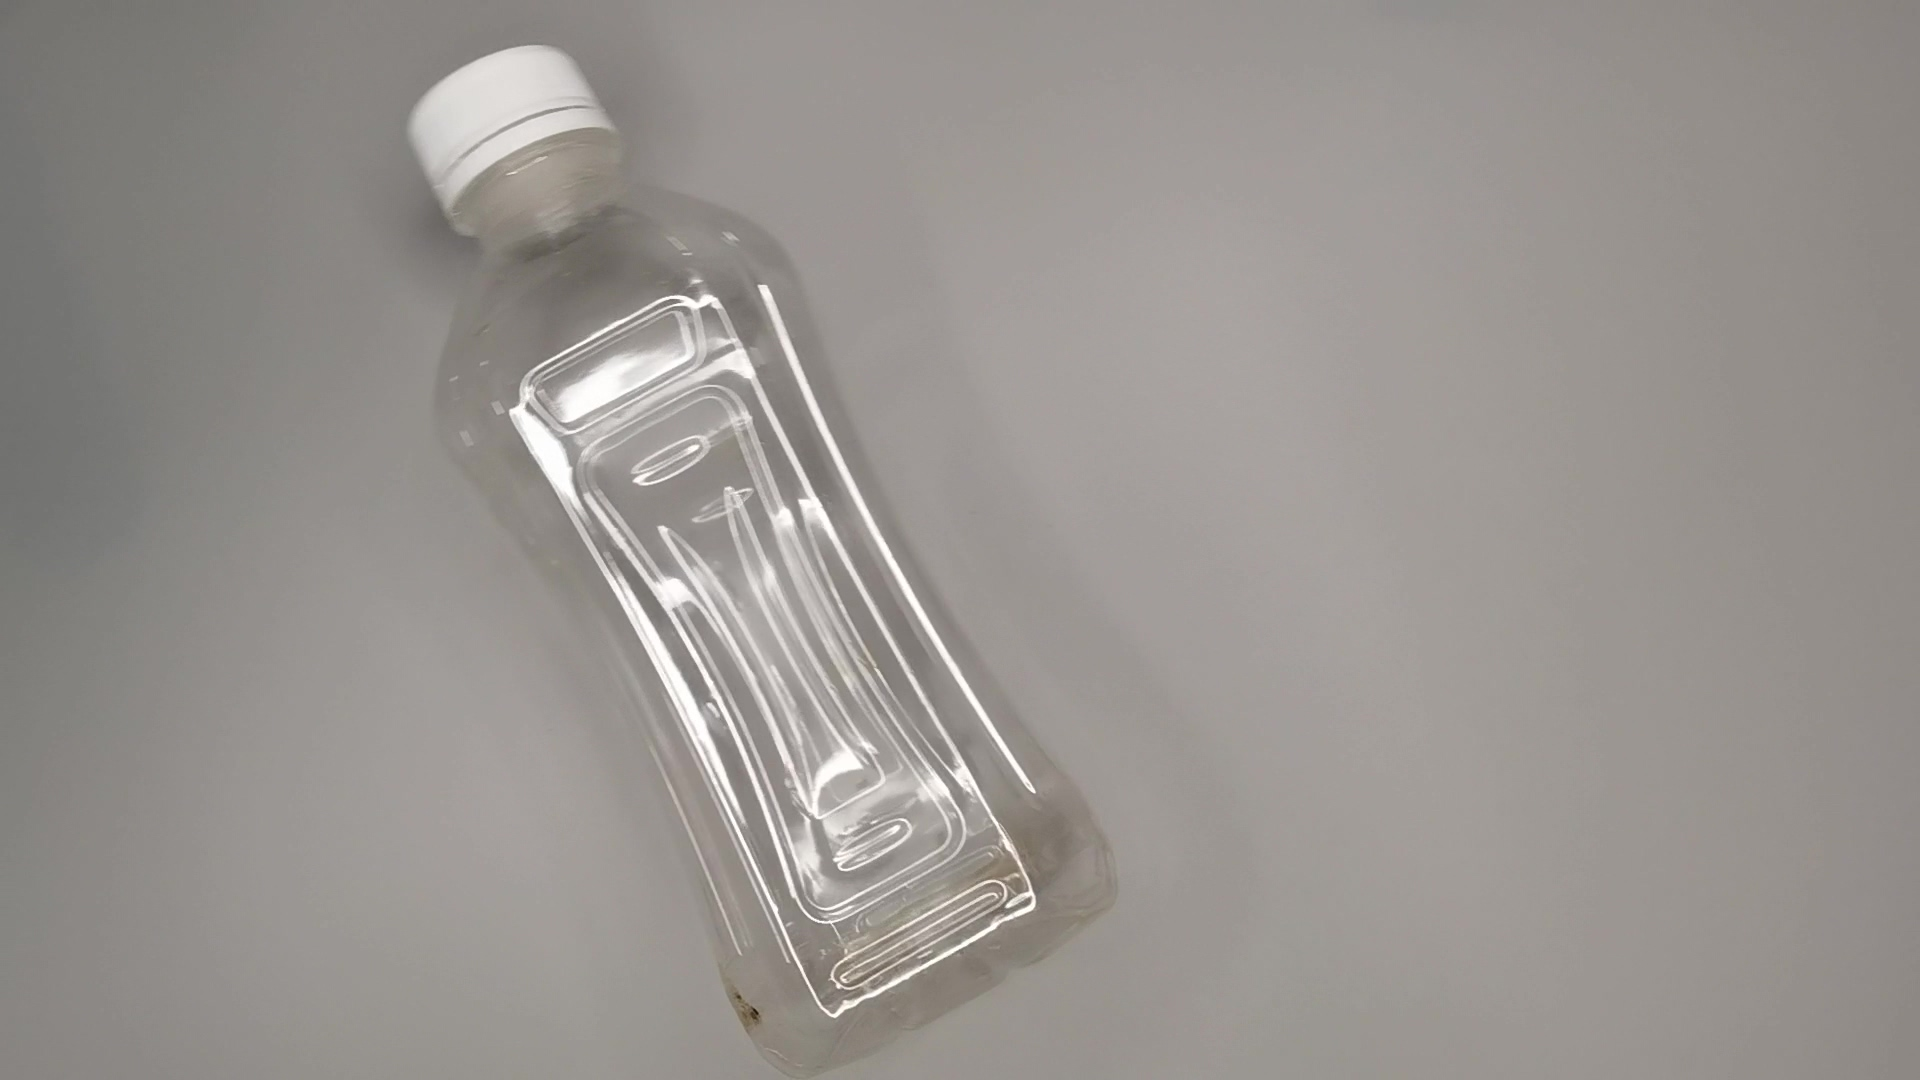bottle: (386, 40, 1127, 1080)
